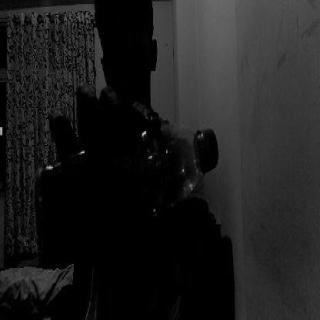plastic_bottles: (39, 116, 222, 264)
